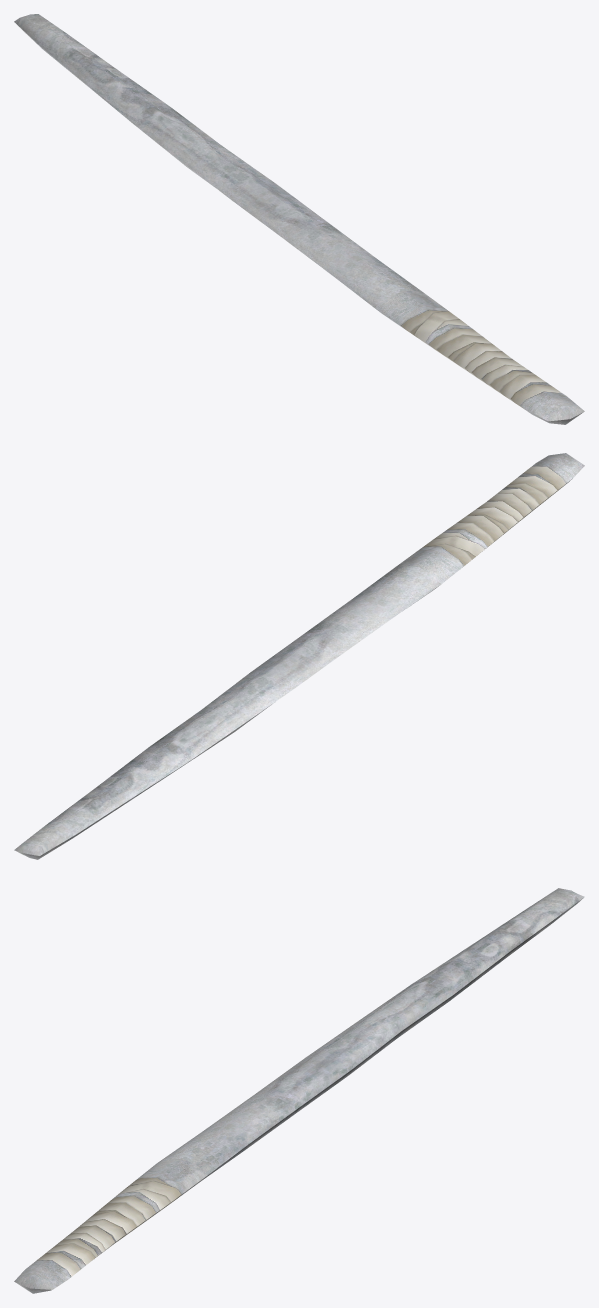
Rendered from sword_metal_stick_metal_stick_mithril.glb.
The picture shows the model from 3 angles, top to bottom: view 1: azimuth 30°, elevation 25°; view 2: azimuth 150°, elevation 25°; view 3: azimuth 330°, elevation 25°; orthographic projection.
Size of the model in its own units: 0.0594 by 0.0258 by 1.06.
1 material, 1 textured.
